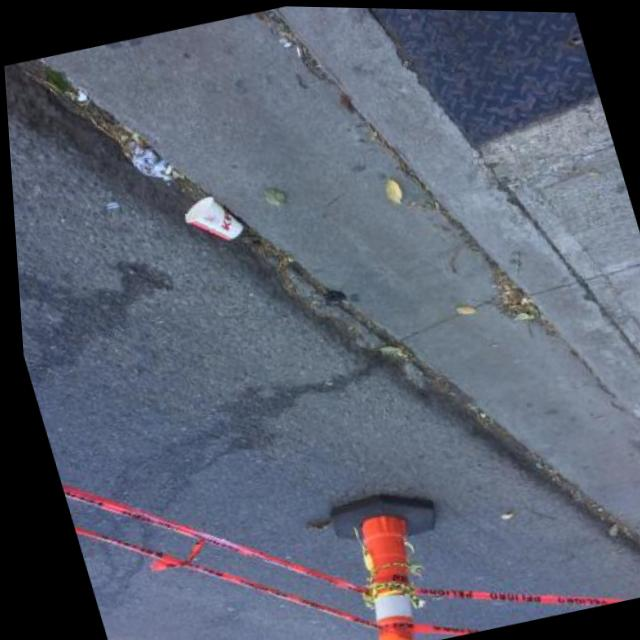cardboard: (179, 190, 247, 248)
